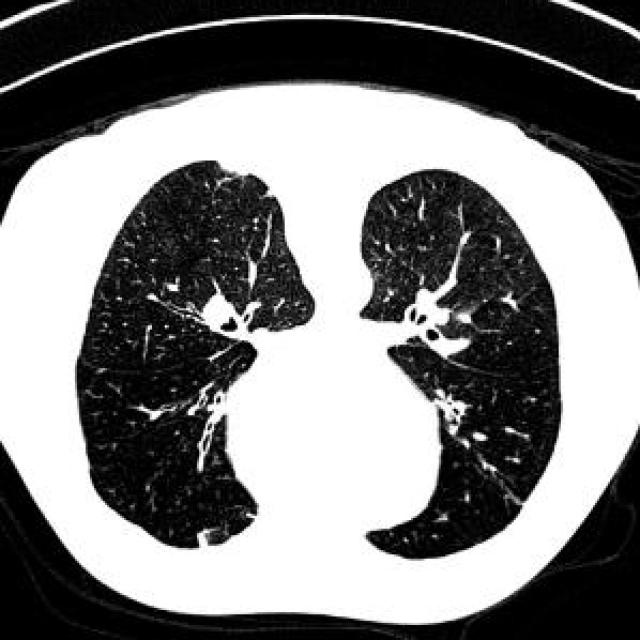Tumor: (450, 426, 458, 434)
